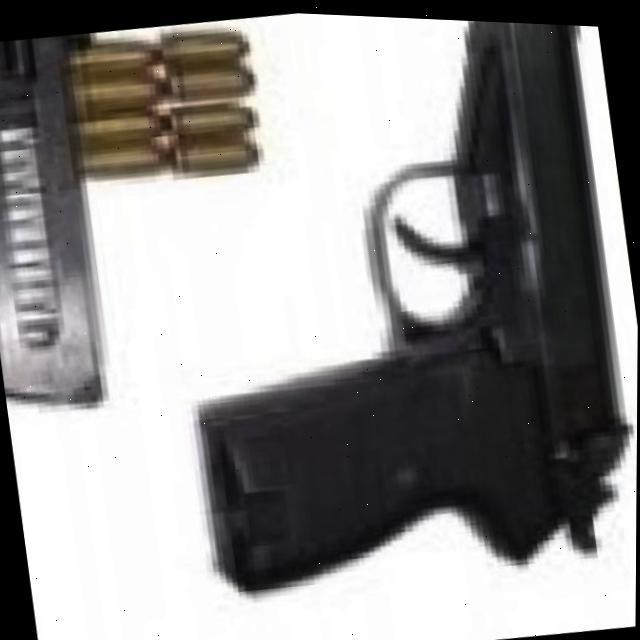gun: (139, 5, 640, 618)
